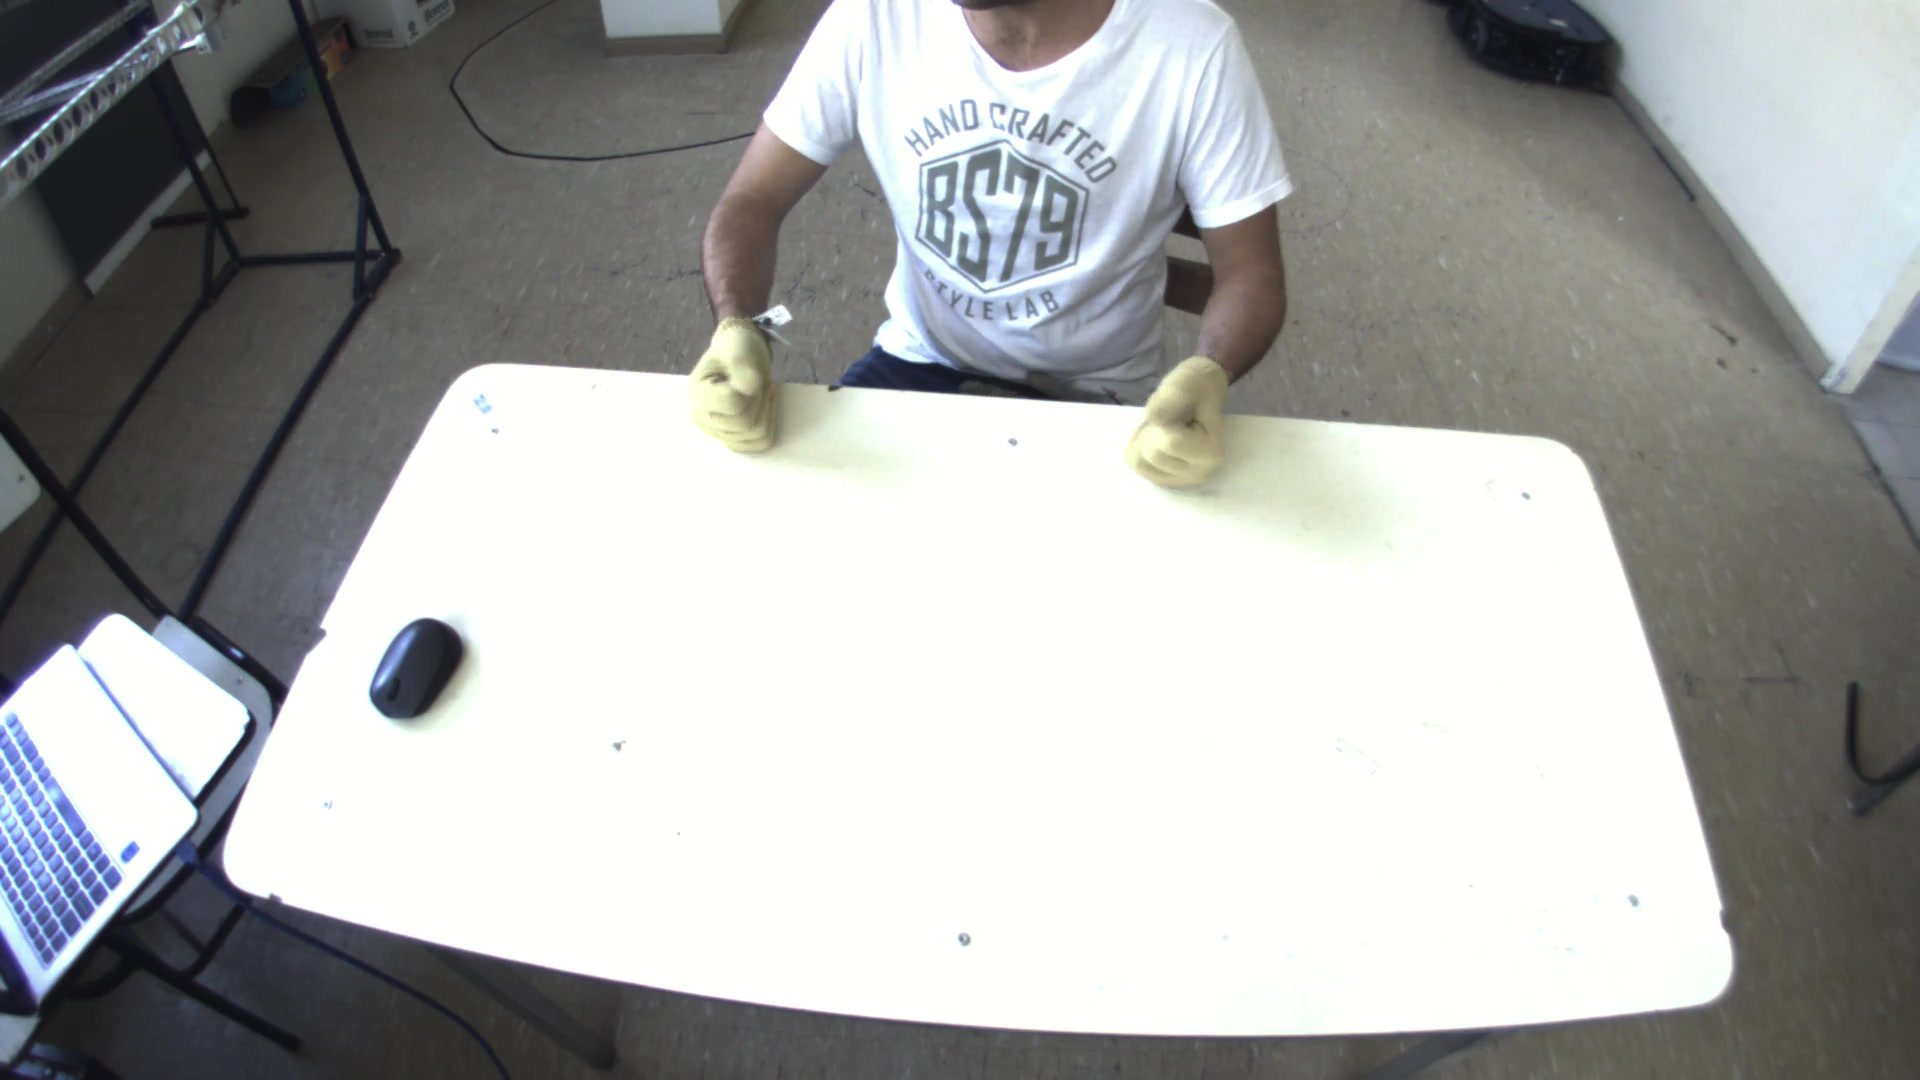hand: (1116, 345, 1244, 497), (669, 305, 793, 454)
